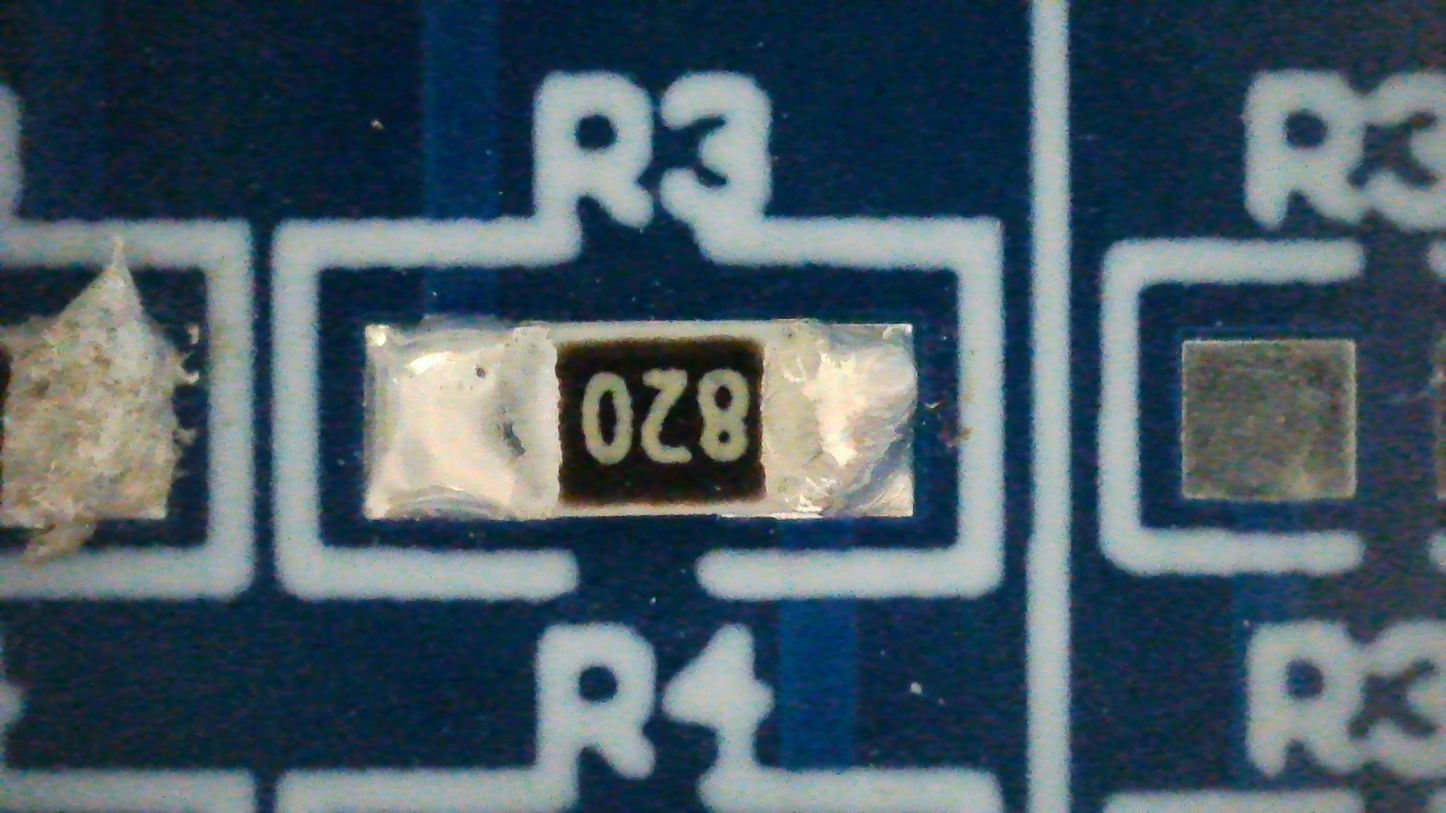OK: (364, 321, 914, 520)
